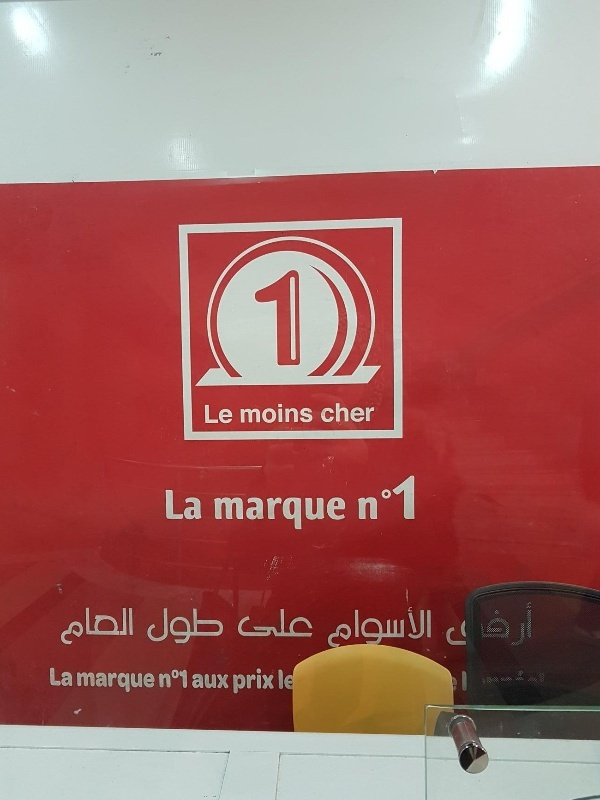text: (257, 268, 272, 366), (273, 268, 288, 366), (289, 268, 301, 366), (401, 474, 417, 521), (369, 474, 384, 521), (385, 474, 400, 521), (417, 607, 433, 649), (449, 603, 464, 647), (465, 603, 480, 647), (481, 603, 496, 647), (497, 603, 512, 647), (513, 603, 528, 647), (337, 607, 352, 649), (353, 607, 368, 649), (369, 607, 384, 649), (385, 607, 400, 649), (401, 607, 416, 649), (209, 607, 225, 645), (65, 606, 80, 645), (81, 606, 96, 645), (97, 606, 112, 645), (113, 606, 128, 645), (161, 607, 176, 645), (177, 607, 192, 645), (193, 607, 208, 645), (225, 496, 240, 531), (241, 496, 256, 531), (257, 496, 272, 531), (273, 496, 288, 531), (289, 496, 304, 531), (305, 496, 320, 531), (321, 496, 336, 531), (357, 474, 368, 521), (241, 608, 256, 639), (257, 608, 272, 639), (273, 608, 288, 639), (289, 608, 304, 639), (148, 607, 160, 645), (177, 490, 192, 520), (241, 668, 256, 694), (257, 668, 272, 694), (529, 669, 545, 692), (214, 496, 224, 531), (337, 496, 347, 531), (465, 669, 480, 692), (481, 669, 496, 692), (497, 669, 512, 692), (513, 669, 528, 692), (328, 607, 336, 649), (165, 490, 176, 520), (241, 403, 256, 424), (257, 403, 272, 424), (273, 403, 288, 424), (289, 403, 304, 424), (321, 402, 336, 423), (337, 402, 352, 423), (353, 402, 368, 423), (81, 672, 96, 693), (97, 672, 112, 693), (113, 672, 128, 693), (129, 672, 144, 693), (209, 404, 224, 424), (193, 490, 203, 520), (161, 669, 176, 689), (451, 669, 464, 692), (49, 668, 64, 687), (305, 608, 314, 639), (177, 669, 189, 689), (193, 673, 208, 689), (209, 673, 224, 689), (145, 672, 156, 693), (278, 669, 288, 690), (129, 606, 134, 645), (305, 403, 314, 424), (233, 668, 240, 694), (225, 404, 234, 424), (529, 603, 533, 647), (60, 606, 64, 645), (65, 668, 73, 687), (369, 402, 375, 423), (289, 669, 294, 690), (255, 268, 256, 366), (237, 608, 240, 639), (204, 404, 208, 424), (225, 673, 230, 689), (77, 672, 80, 693), (273, 668, 275, 694), (447, 603, 448, 647), (158, 669, 160, 689)
